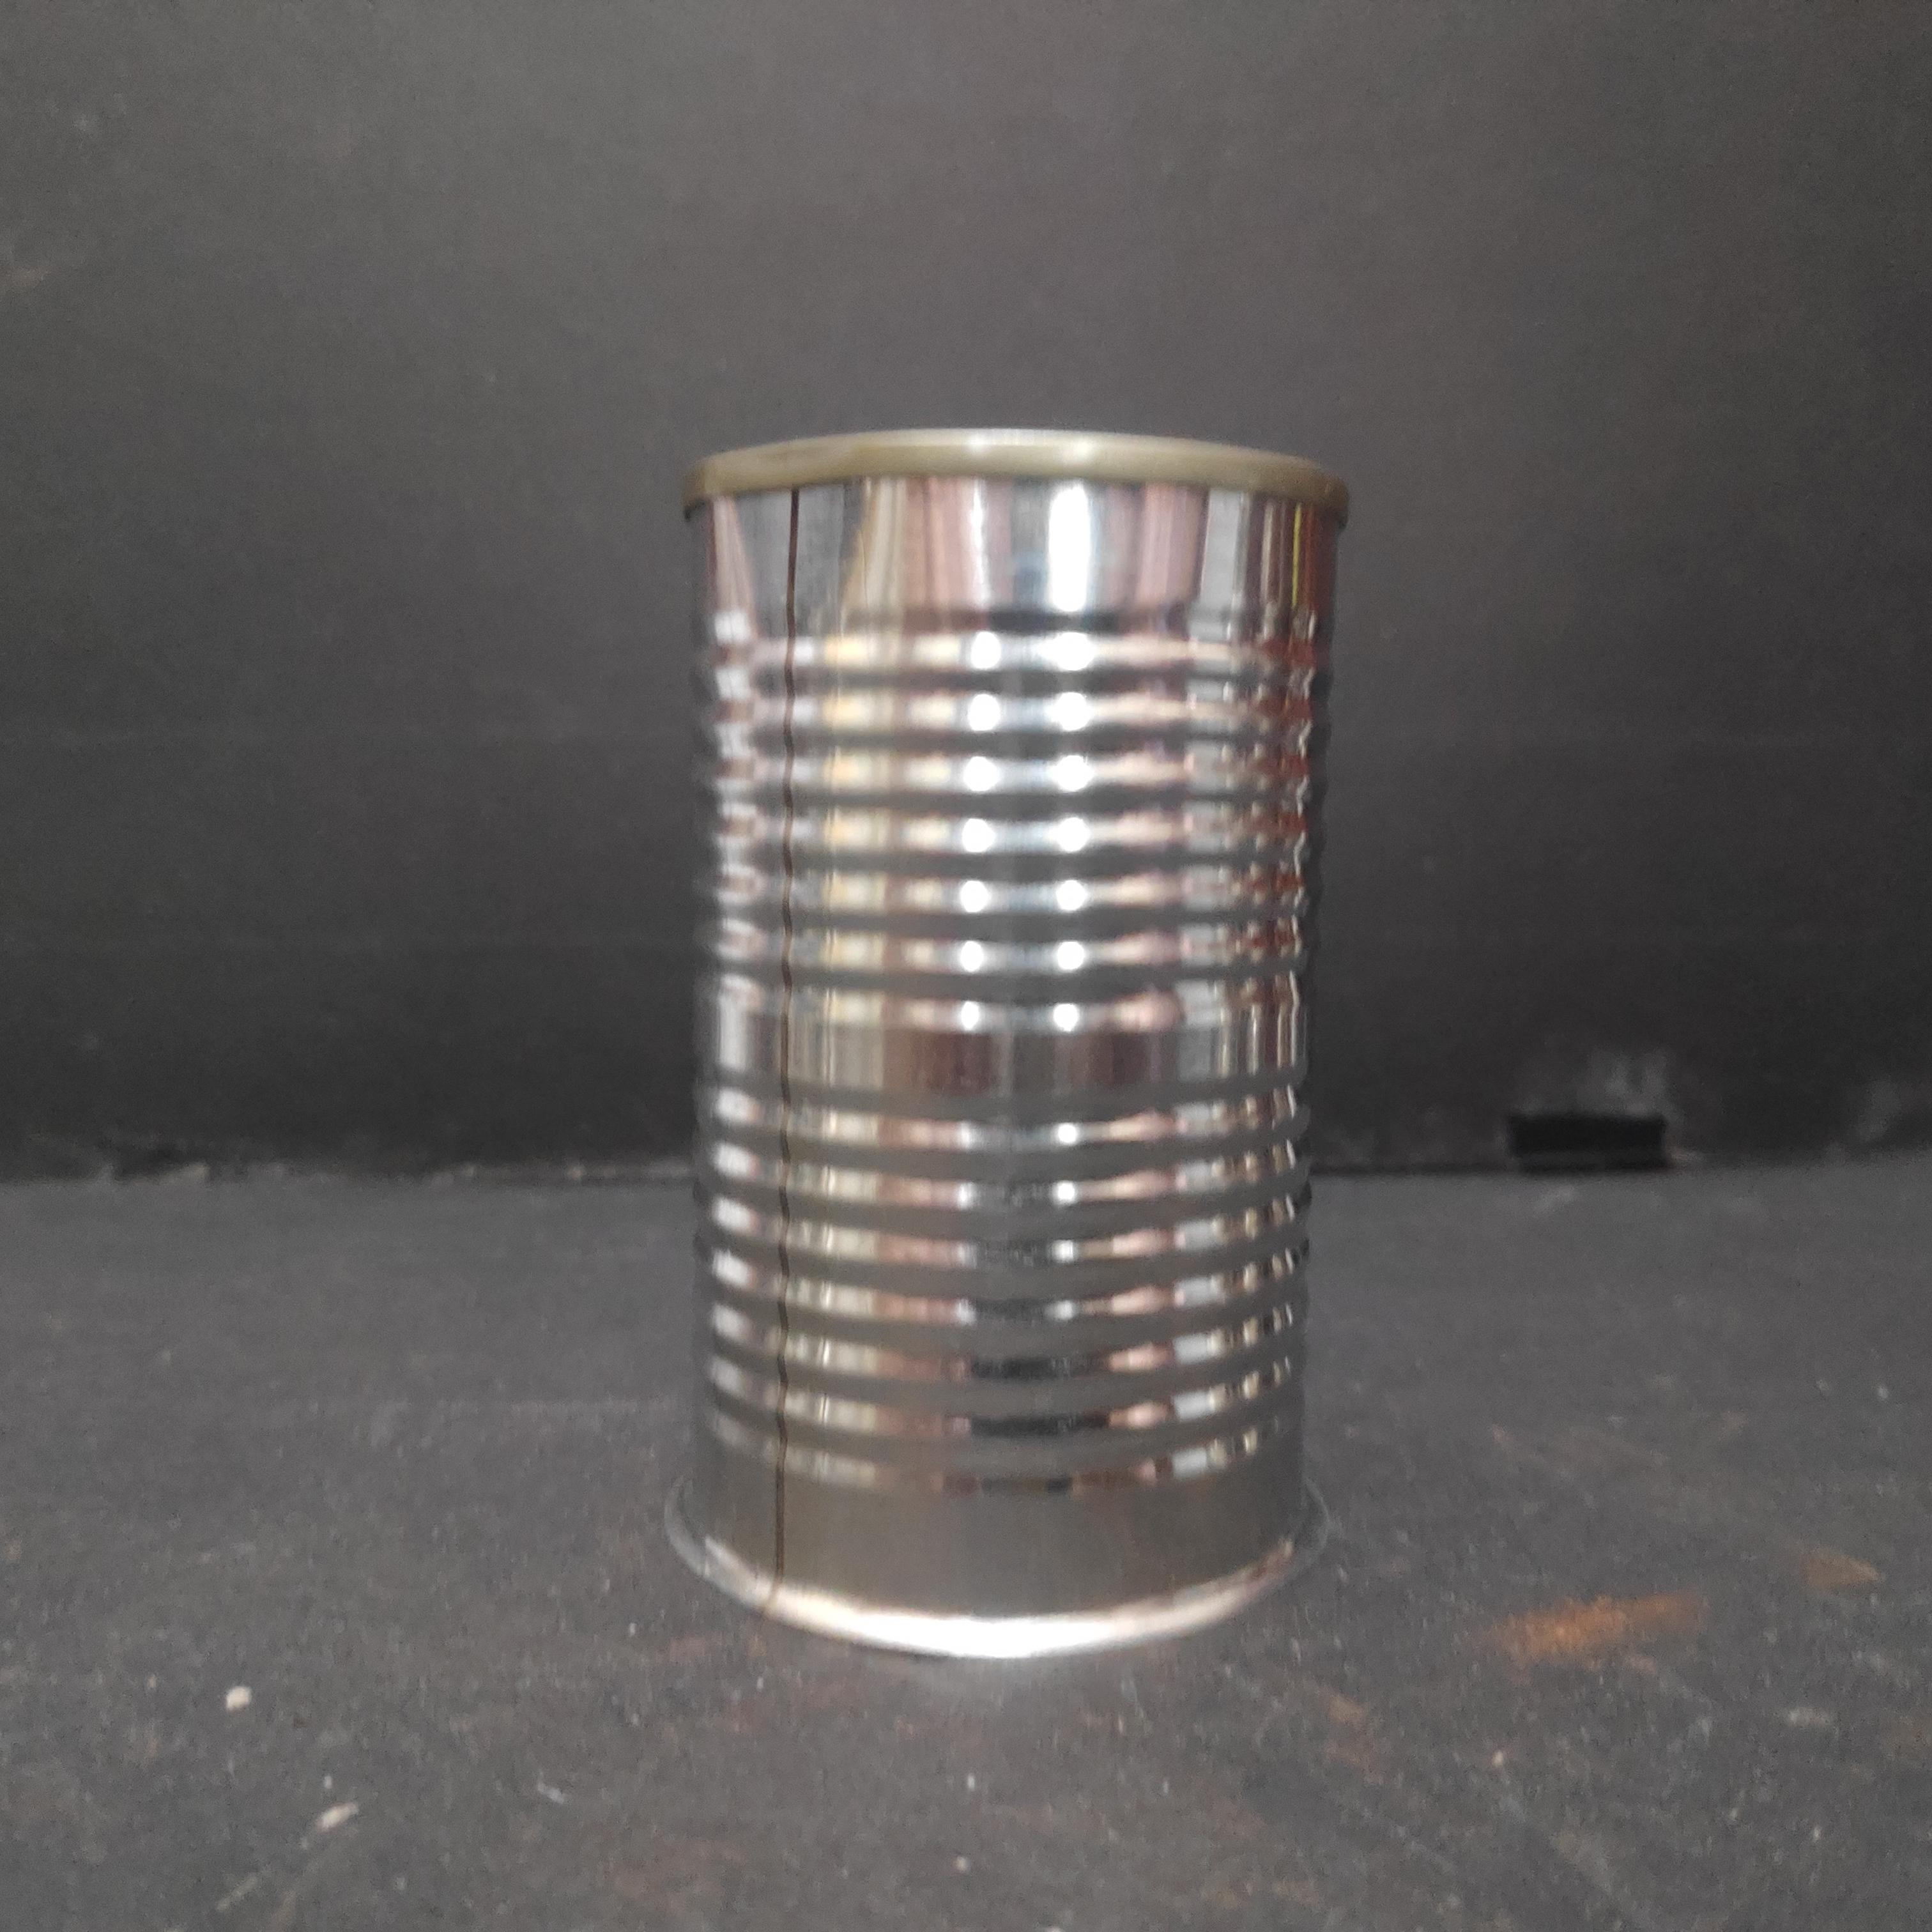Minor Defect: (672, 426, 1362, 1668)
